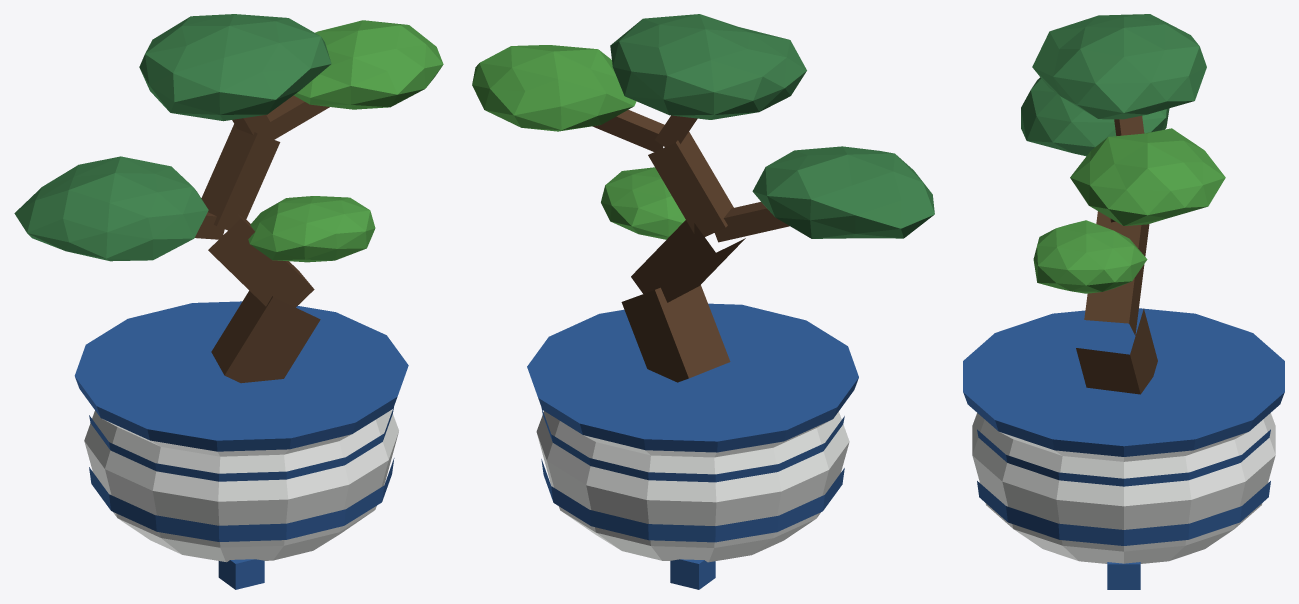
The model's file is viet_bonsai.glb.
The picture shows the model from 3 angles, left to right: view 1: azimuth 30°, elevation 25°; view 2: azimuth 150°, elevation 25°; view 3: azimuth 270°, elevation 25°; orthographic projection.
Parts seen in each view (by area): view 1: viet_bonsai; view 2: viet_bonsai; view 3: viet_bonsai.
Part boxes in pixels (bbox=[...]): viet_bonsai: bbox=[14, 14, 443, 589]; viet_bonsai: bbox=[472, 14, 934, 589]; viet_bonsai: bbox=[963, 14, 1284, 589].
Bounding box in the file's own units: 0.8824 × 1 × 0.5727.
